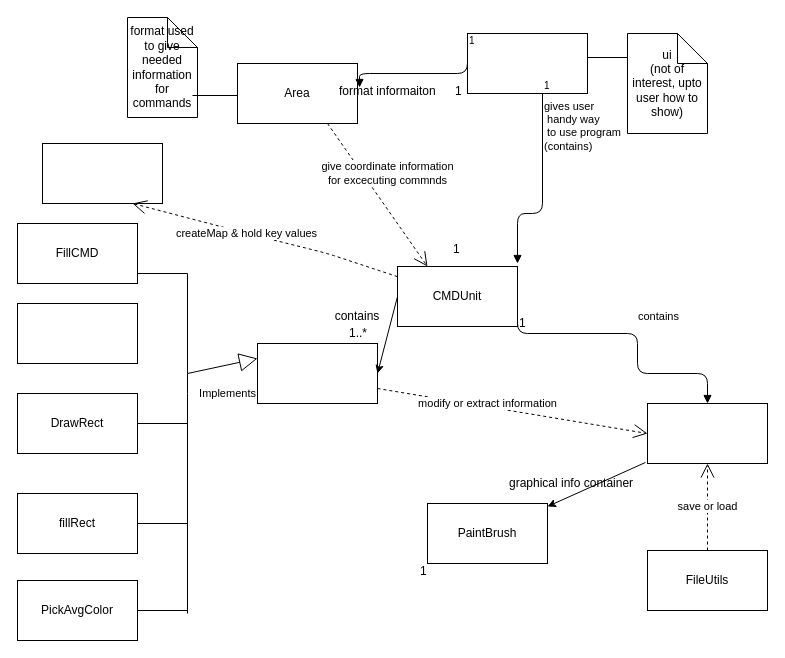
Some shapes in this 785 by 658 pixel diagram are drawn without their labels. Here are the shapes that lost their labels. From the top down, the centre of each, then its label:
pixel 527 63: ui
pixel 102 173: CommandMap
pixel 77 333: DrawLine
pixel 317 373: <interface> commands
pixel 707 433: MyImage
